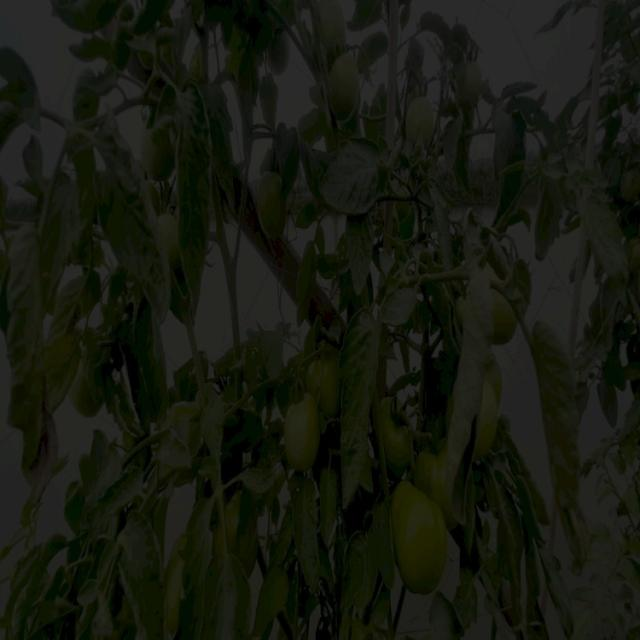tomato: (393, 482, 441, 596), (136, 124, 180, 189), (287, 398, 327, 466), (254, 172, 289, 247), (378, 395, 413, 465), (330, 57, 366, 120), (318, 1, 351, 56), (405, 100, 441, 148), (424, 437, 449, 500), (491, 284, 518, 341), (482, 374, 499, 460), (158, 208, 186, 258), (311, 359, 336, 414), (223, 486, 241, 552), (621, 167, 640, 211), (466, 61, 487, 95), (626, 230, 640, 270)
